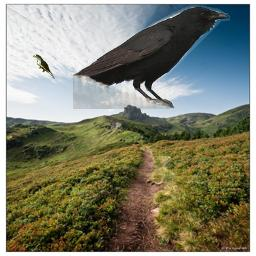Crow: (73, 5, 230, 109)
Cuckoo: (33, 54, 55, 79)
